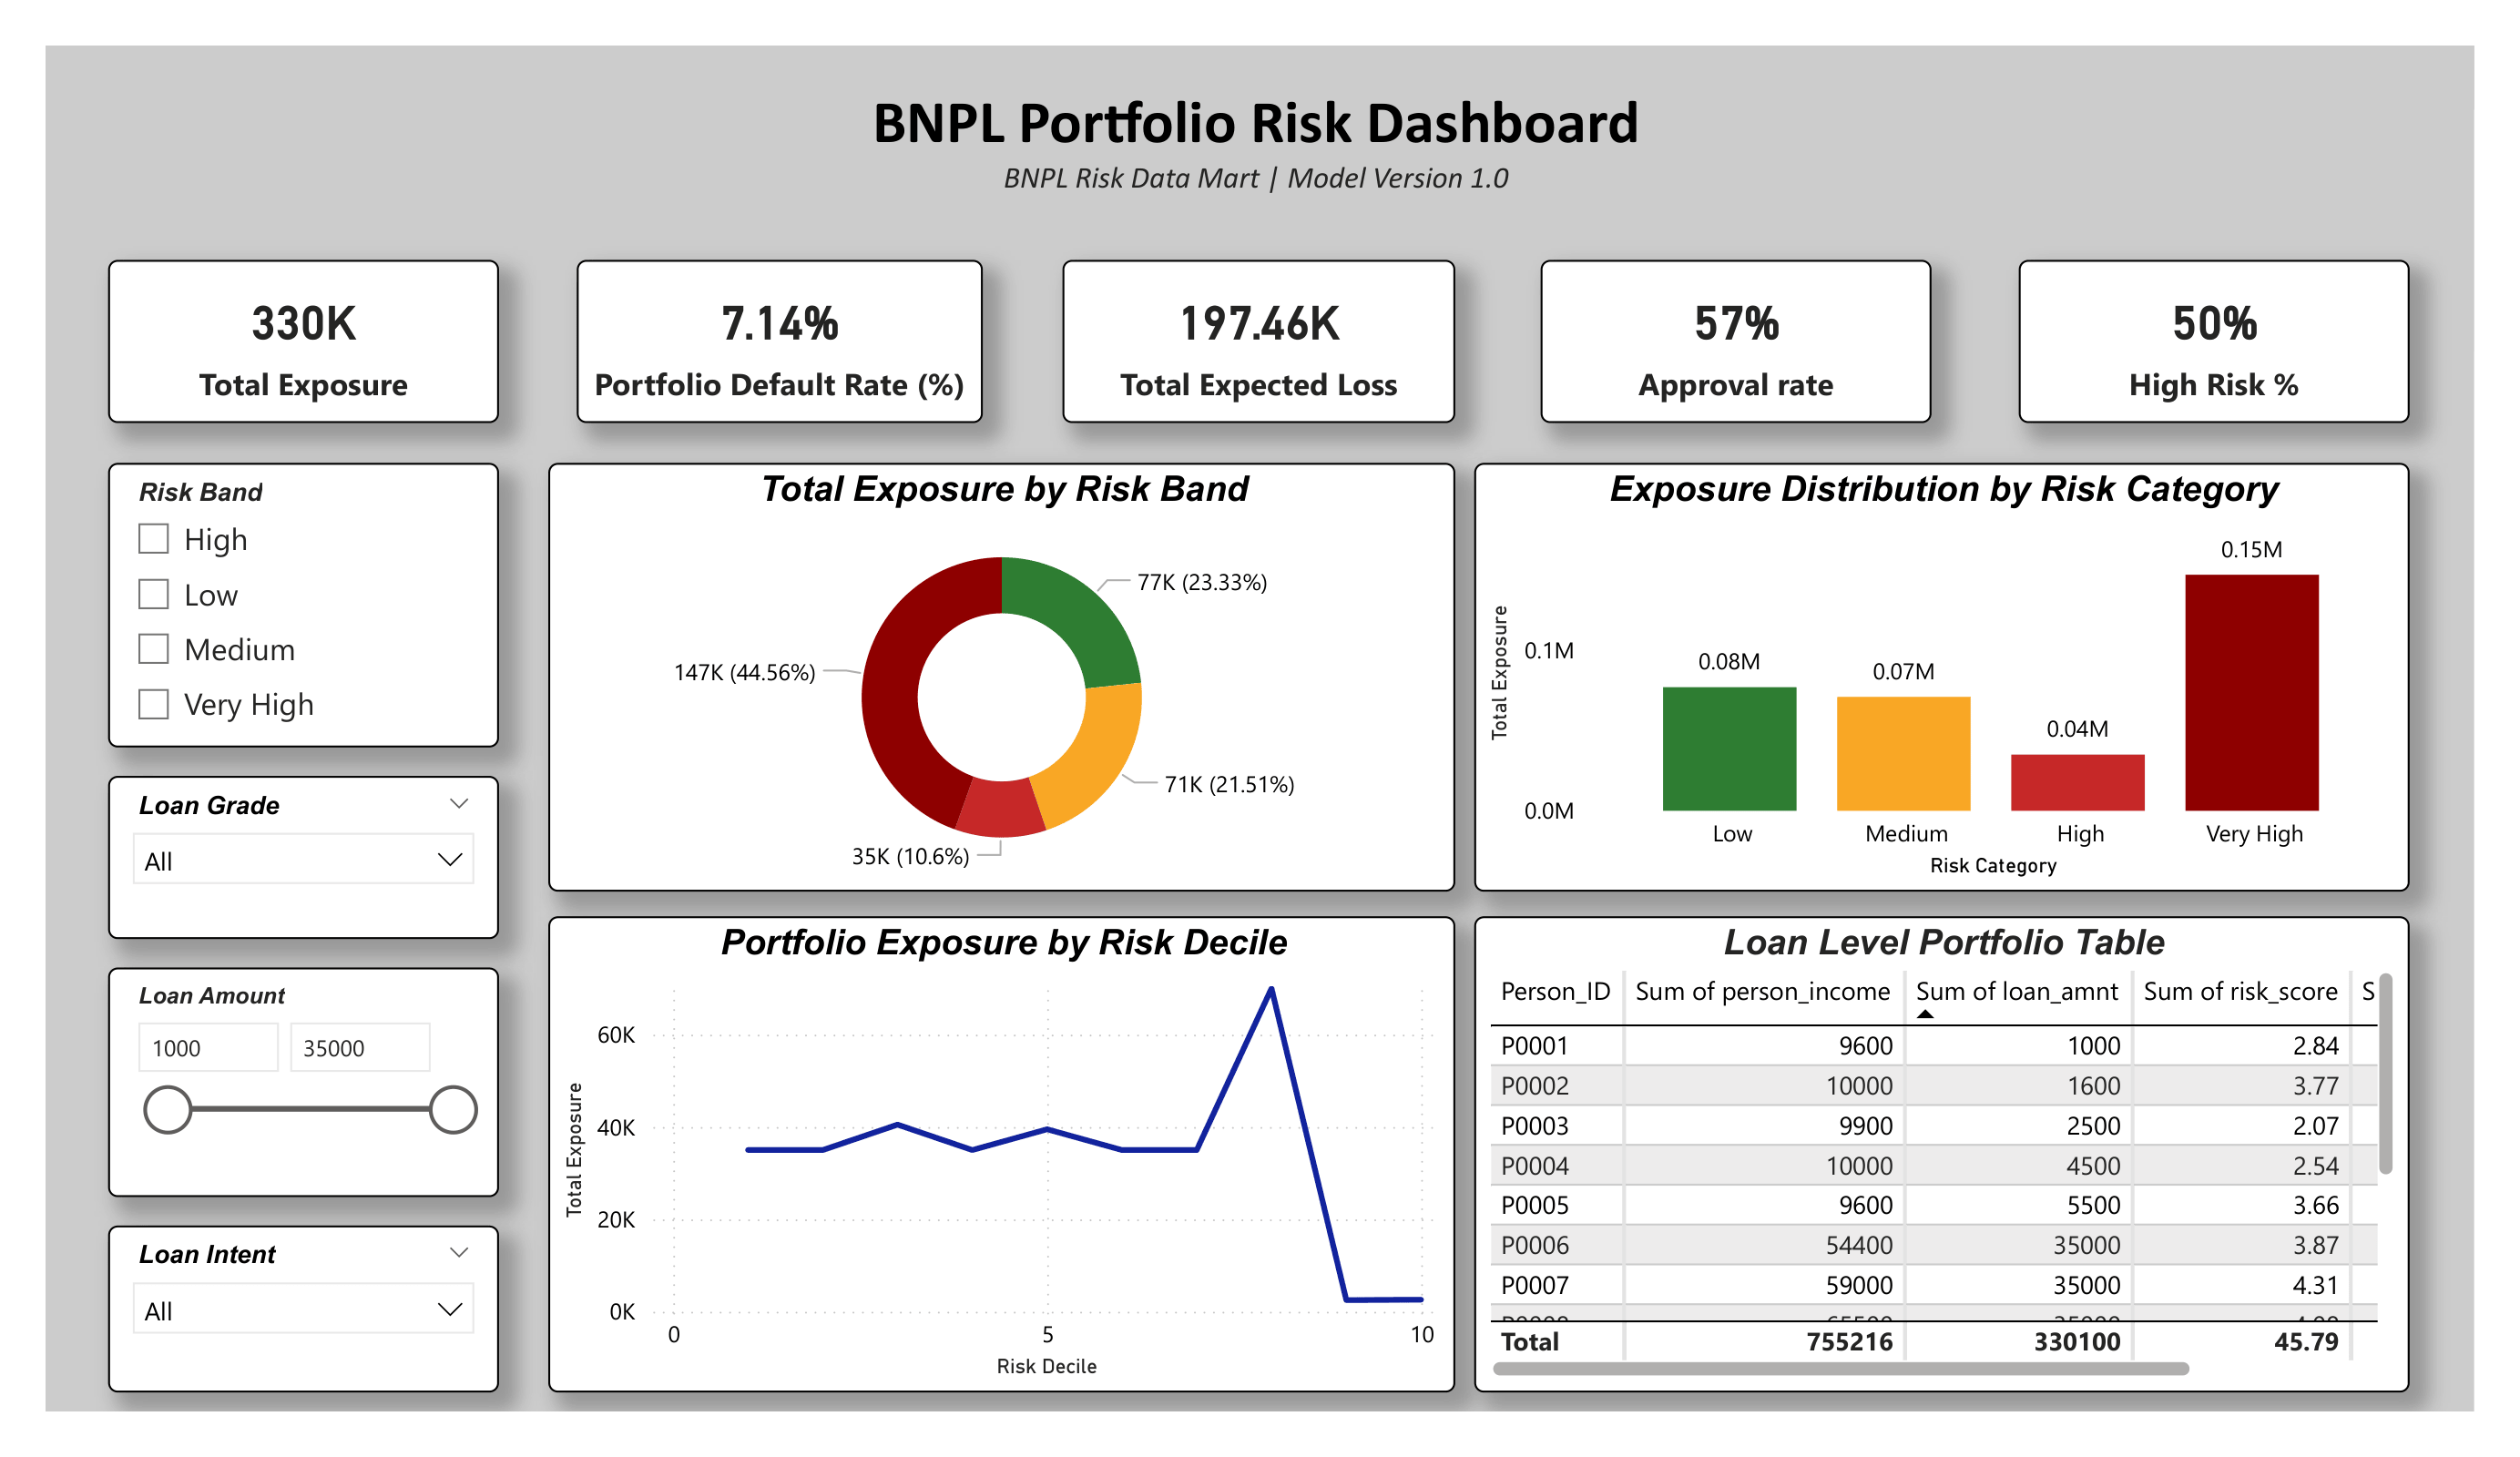

The dashboard page shown, as its layout file describes it:
{"tool":"powerbi","page":{"name":"Overview","canvas":[1280,720],"ordinal":0},"visuals":[{"type":"donutChart","title":"Total Exposure by Risk Band","fields":{"Category":["RiskBandTable.risk_band"],"Y":["Sum(risk_data_mart bnpl_risk_featured.loan_amnt)"]},"box":[264.8,219.7,477.7,226.6],"z":0},{"type":"columnChart","title":"Exposure Distribution by Risk Category","fields":{"Category":["RiskBandTable.risk_band"],"Y":["risk_data_mart bnpl_risk_featured.Total Exposure","select"]},"box":[753.4,219.7,492.7,226.6],"z":1000},{"type":"lineChart","title":"Portfolio Exposure by Risk Decile","fields":{"Y":["risk_data_mart bnpl_risk_featured.Total Exposure"],"Category":["risk_data_mart bnpl_risk_featured.Risk Decile"]},"box":[264.8,458.6,477.7,251.1],"z":2000},{"type":"tableEx","title":"Loan Level Portfolio Table","fields":{"Values":["risk_data_mart bnpl_risk_featured.Person_ID","Sum(risk_data_mart bnpl_risk_featured.person_income)","Sum(risk_data_mart bnpl_risk_featured.loan_amnt)","Sum(risk_data_mart bnpl_risk_featured.risk_score)","Sum(risk_data_mart bnpl_risk_featured.Expected_loss)"]},"box":[753.4,458.6,492.7,251.1],"z":3000},{"type":"card","fields":{"Values":["risk_data_mart bnpl_risk_featured.Total Exposure"]},"box":[32.8,113.3,206.1,86],"z":4000},{"type":"card","fields":{"Values":["risk_data_mart bnpl_risk_featured.Portfolio Default Rate"]},"box":[279.8,113.3,214.3,86],"z":5000},{"type":"card","fields":{"Values":["risk_data_mart bnpl_risk_featured.Total Expected Loss"]},"box":[536.4,113.3,206.1,86],"z":6000},{"type":"card","fields":{"Values":["risk_data_mart bnpl_risk_featured.Approval rate"]},"box":[787.5,113.3,206.1,86],"z":7000},{"type":"card","fields":{"Values":["risk_data_mart bnpl_risk_featured.High Risk %"]},"box":[1040.1,113.3,206.1,86],"z":8000},{"type":"textbox","box":[30,16.4,1216.1,84.6],"z":9000},{"type":"slicer","fields":{"Values":["risk_data_mart bnpl_risk_featured.risk_band"]},"box":[32.8,219.7,206.1,150.1],"z":10000},{"type":"slicer","fields":{"Values":["risk_data_mart bnpl_risk_featured.loan_grade"]},"box":[32.8,384.9,206.1,86],"z":11000},{"type":"slicer","fields":{"Values":["risk_data_mart bnpl_risk_featured.loan_amnt"]},"box":[32.8,485.9,206.1,121.5],"z":12000},{"type":"slicer","fields":{"Values":["risk_data_mart bnpl_risk_featured.loan_intent"]},"box":[32.8,622.4,206.1,87.4],"z":13000}]}

Visuals, with their boxes in screenshot pixels (x1, y1, x2, y2):
"Total Exposure by Risk Band" donutChart: Rect(548, 464, 1443, 888)
"Exposure Distribution by Risk Category" columnChart: Rect(1464, 464, 2386, 888)
"Portfolio Exposure by Risk Decile" lineChart: Rect(548, 912, 1443, 1381)
"Loan Level Portfolio Table" tableEx: Rect(1464, 912, 2386, 1381)
card - risk_data_mart bnpl_risk_featured.Total Exposure: Rect(114, 265, 500, 425)
card - risk_data_mart bnpl_risk_featured.Portfolio Default Rate: Rect(576, 265, 978, 425)
card - risk_data_mart bnpl_risk_featured.Total Expected Loss: Rect(1057, 265, 1443, 425)
card - risk_data_mart bnpl_risk_featured.Approval rate: Rect(1527, 265, 1913, 425)
card - risk_data_mart bnpl_risk_featured.High Risk %: Rect(2000, 265, 2386, 425)
textbox: Rect(108, 83, 2386, 241)
slicer - risk_data_mart bnpl_risk_featured.risk_band: Rect(114, 464, 500, 745)
slicer - risk_data_mart bnpl_risk_featured.loan_grade: Rect(114, 773, 500, 934)
slicer - risk_data_mart bnpl_risk_featured.loan_amnt: Rect(114, 963, 500, 1190)
slicer - risk_data_mart bnpl_risk_featured.loan_intent: Rect(114, 1218, 500, 1381)
